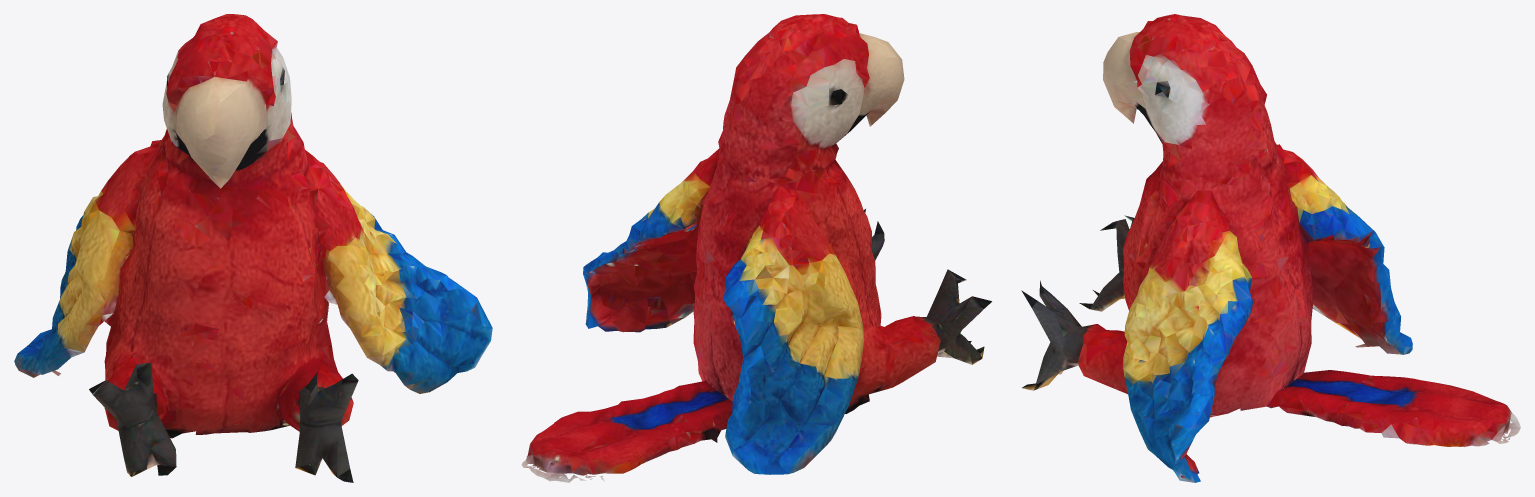
Rendered from parrot.glb.
The picture shows the model from 3 angles, left to right: view 1: azimuth 30°, elevation 25°; view 2: azimuth 150°, elevation 25°; view 3: azimuth 270°, elevation 25°; orthographic projection. The views are drawn at different scales.
Visible parts, largest first — view 1: model_tex_u1_v1_0.010; view 2: model_tex_u1_v1_0.010; view 3: model_tex_u1_v1_0.010.
Part boxes in pixels (box(x1,y1,x2,y2)): model_tex_u1_v1_0.010: box(14, 14, 492, 482); model_tex_u1_v1_0.010: box(521, 14, 991, 482); model_tex_u1_v1_0.010: box(1021, 14, 1520, 482).
Size of the model in its own units: 0.2991 by 0.2739 by 0.3411.
1 material, 1 textured.
